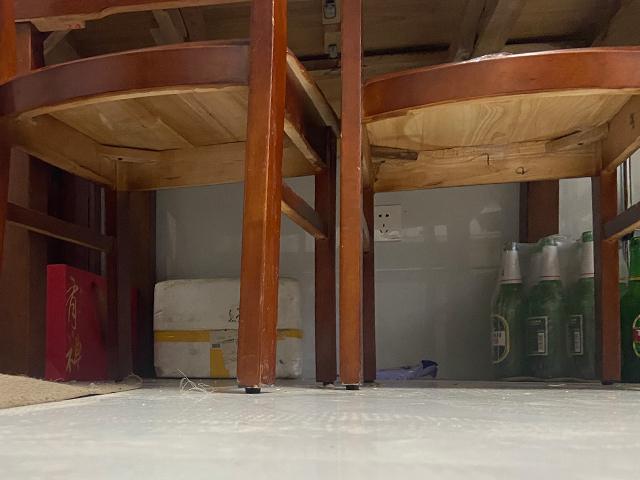stool: (1, 1, 335, 395), (340, 1, 640, 385)
